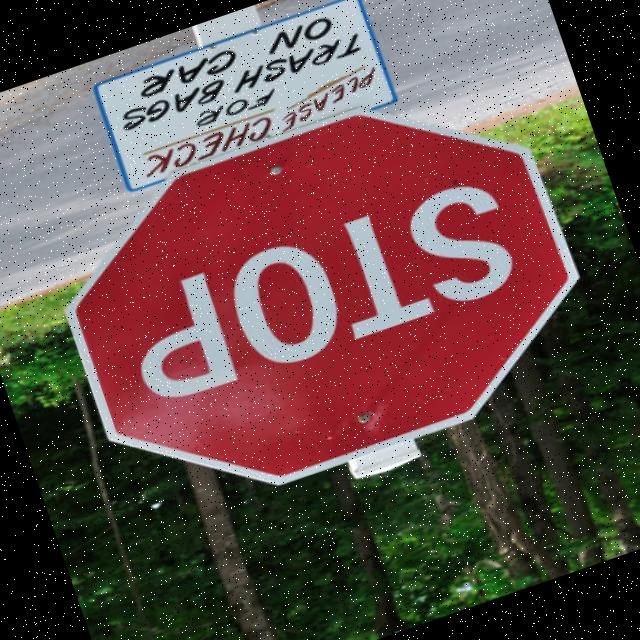stop: (21, 51, 624, 544)
